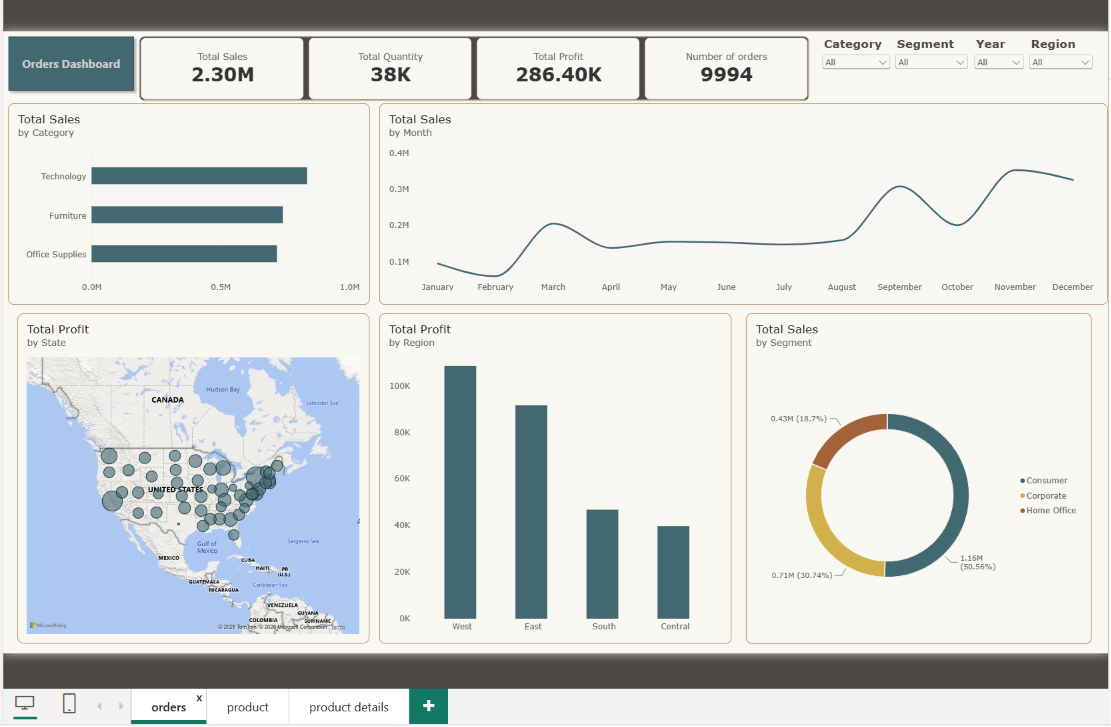

The page's visual inventory and layout, read from the dashboard file:
{"tool":"powerbi","page":{"name":"orders","canvas":[1920,1080],"ordinal":0},"visuals":[{"type":"cardVisual","fields":{"Data":["Orders.Total Sales","Orders.Total Quantity","Orders.Total Profit","Orders.Number of orders"]},"box":[236,8,1164,112],"z":0},{"type":"clusteredBarChart","fields":{"Category":["Orders.Category"],"Y":["Orders.Total Sales"]},"box":[8,126,628,350],"z":1000},{"type":"clusteredColumnChart","fields":{"Category":["People.Region"],"Y":["Orders.Total Profit"]},"box":[654,490,612,574],"z":2000},{"type":"donutChart","fields":{"Category":["Orders.Segment"],"Y":["Orders.Total Sales"]},"box":[1292,490,600,574],"z":3000},{"type":"lineChart","fields":{"Category":["Orders.Order Date.Variation.Date Hierarchy.Year","Orders.Order Date.Variation.Date Hierarchy.Quarter","Orders.Order Date.Variation.Date Hierarchy.Month","Orders.Order Date.Variation.Date Hierarchy.Day"],"Y":["Orders.Total Sales"]},"box":[654,126,1266,350],"z":4000},{"type":"slicer","fields":{"Values":["Orders.Order Date.Variation.Date Hierarchy.Year"]},"box":[1682,8,96,64],"z":5000},{"type":"slicer","fields":{"Values":["Orders.Category"]},"box":[1418,8,128,78],"z":6000},{"type":"slicer","fields":{"Values":["Orders.Region"]},"box":[1778,8,120,64],"z":7000},{"type":"slicer","fields":{"Values":["Orders.Segment"]},"box":[1546,8,136,56],"z":8000},{"type":"shape","box":[0,0,236,112],"z":9000},{"type":"map","fields":{"Size":["Orders.Total Profit"],"Category":["Orders.State"]},"box":[24,490,612,574],"z":10000}]}

Visuals, with their boxes on the page's 1920x1080 design canvas (x1, y1, x2, y2). These are canvas units, not pixel positions in the 1111x727 screenshot, which may show the page scaled, cropped or inside an application window:
cardVisual - Orders.Total Sales x Orders.Total Quantity: box(236, 8, 1400, 120)
clusteredBarChart - Orders.Category x Orders.Total Sales: box(8, 126, 636, 476)
clusteredColumnChart - People.Region x Orders.Total Profit: box(654, 490, 1266, 1064)
donutChart - Orders.Segment x Orders.Total Sales: box(1292, 490, 1892, 1064)
lineChart - Orders.Order Date.Variation.Date Hierarchy.Year x Orders.Order Date.Variation.Date Hierarchy.Quarter: box(654, 126, 1920, 476)
slicer - Orders.Order Date.Variation.Date Hierarchy.Year: box(1682, 8, 1778, 72)
slicer - Orders.Category: box(1418, 8, 1546, 86)
slicer - Orders.Region: box(1778, 8, 1898, 72)
slicer - Orders.Segment: box(1546, 8, 1682, 64)
shape: box(0, 0, 236, 112)
map - Orders.Total Profit x Orders.State: box(24, 490, 636, 1064)
